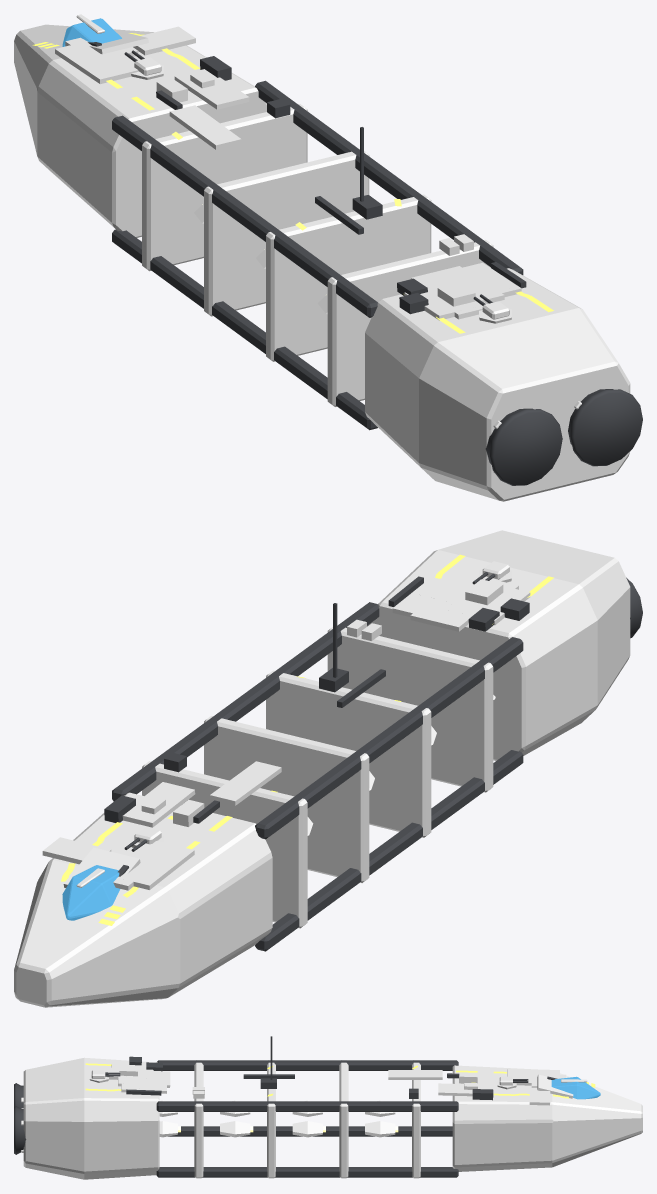
Rendered from pastuh.glb.
The picture shows the model from 3 angles, top to bottom: view 1: azimuth 30°, elevation 25°; view 2: azimuth 150°, elevation 25°; view 3: azimuth 270°, elevation 25°; orthographic projection. The views are drawn at different scales.
Visible parts, largest first — view 1: Корма, Нос, Рама.002, Рама.001, Накладные_плиты, Рама, Рама.003, Лонжерон.002, Лонжерон.003, Лонжерон, Кожух_дюзы.001, Кожух_дюзы (+3 smaller); view 2: Нос, Корма, Накладные_плиты, Рама.002, Рама.001, Рама.003, Рама, Лонжерон.002, Лонжерон.003, Лонжерон, Механика, Кабина (+1 smaller); view 3: Корма, Нос, Накладные_плиты, Лонжерон, Лонжерон.001, Лонжерон.002, Лонжерон.003, Механика, Рама.001, Рама.003, Рама.002, Рама (+7 smaller).
Boxes of the visible parts, box(x1,y1,x2,y2) form: Корма: box(365, 268, 630, 501); Нос: box(14, 24, 266, 237); Рама.002: box(266, 194, 431, 361); Рама.001: box(204, 151, 369, 316); Накладные_плиты: box(55, 26, 521, 320); Рама: box(142, 104, 307, 271); Рама.003: box(327, 239, 493, 406); Лонжерон.002: box(112, 115, 377, 317); Лонжерон.003: box(112, 229, 377, 430); Лонжерон: box(255, 80, 523, 274); Кожух_дюзы.001: box(485, 408, 562, 485); Кожух_дюзы: box(568, 389, 642, 466); Нос: box(14, 792, 272, 1007); Корма: box(367, 530, 630, 760); Накладные_плиты: box(42, 577, 530, 890); Рама.002: box(266, 670, 431, 837); Рама.001: box(204, 716, 369, 882); Рама.003: box(327, 627, 493, 792); Рама: box(142, 761, 307, 928); Лонжерон.002: box(255, 637, 523, 839); Лонжерон.003: box(255, 750, 523, 951); Лонжерон: box(112, 602, 379, 801); Механика: box(104, 576, 529, 876); Кабина: box(62, 865, 120, 920); Корма: box(23, 1057, 159, 1179); Нос: box(452, 1065, 642, 1171); Накладные_плиты: box(107, 1063, 573, 1105); Лонжерон: box(156, 1101, 458, 1111); Лонжерон.001: box(156, 1167, 458, 1177); Лонжерон.002: box(157, 1060, 458, 1070); Лонжерон.003: box(168, 1126, 452, 1136); Механика: box(126, 1036, 557, 1100); Рама.001: box(339, 1060, 348, 1178); Рама.003: box(194, 1060, 203, 1178); Рама.002: box(267, 1060, 275, 1178); Рама: box(412, 1060, 420, 1178).
Size of the model in its own units: 0.4 by 0.465 by 2.08.
